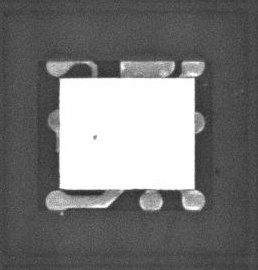DIE_INK: (87, 139, 95, 148)
